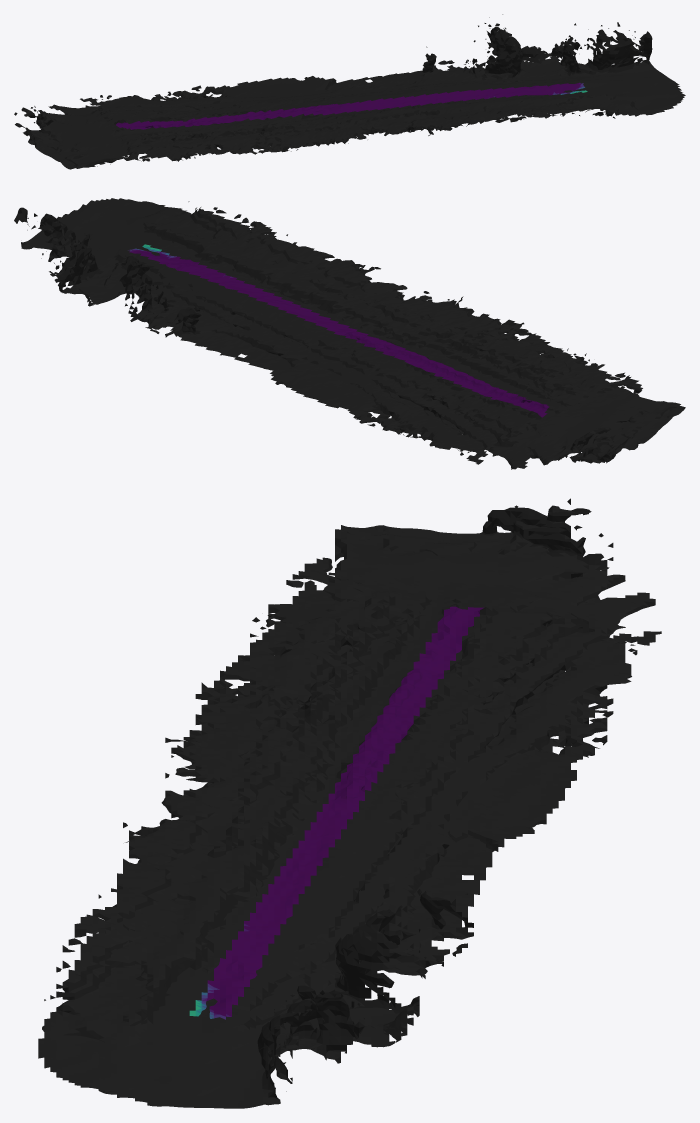
The picture shows the model from 3 angles, top to bottom: view 1: azimuth 30°, elevation 25°; view 2: azimuth 150°, elevation 25°; view 3: azimuth 270°, elevation 25°; orthographic projection. The views are drawn at different scales.
Parts seen in each view (by area): view 1: node; view 2: node; view 3: node.
Boxes of the visible parts, left/top/right/bottom form: node: left=14, top=14, right=685, bottom=169; node: left=14, top=198, right=685, bottom=469; node: left=38, top=498, right=661, bottom=1108.
Size of the model in its own units: 122 by 10.83 by 58.74.
